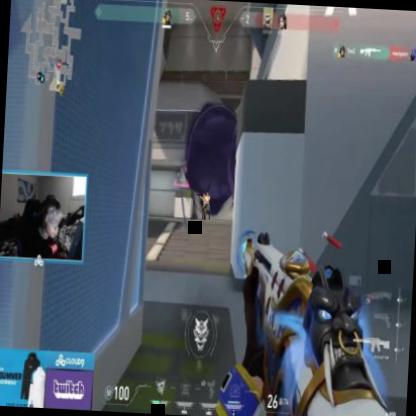enemy: (202, 192, 211, 220), (200, 192, 206, 220)
enemy_head: (202, 194, 204, 198), (206, 192, 208, 196)
